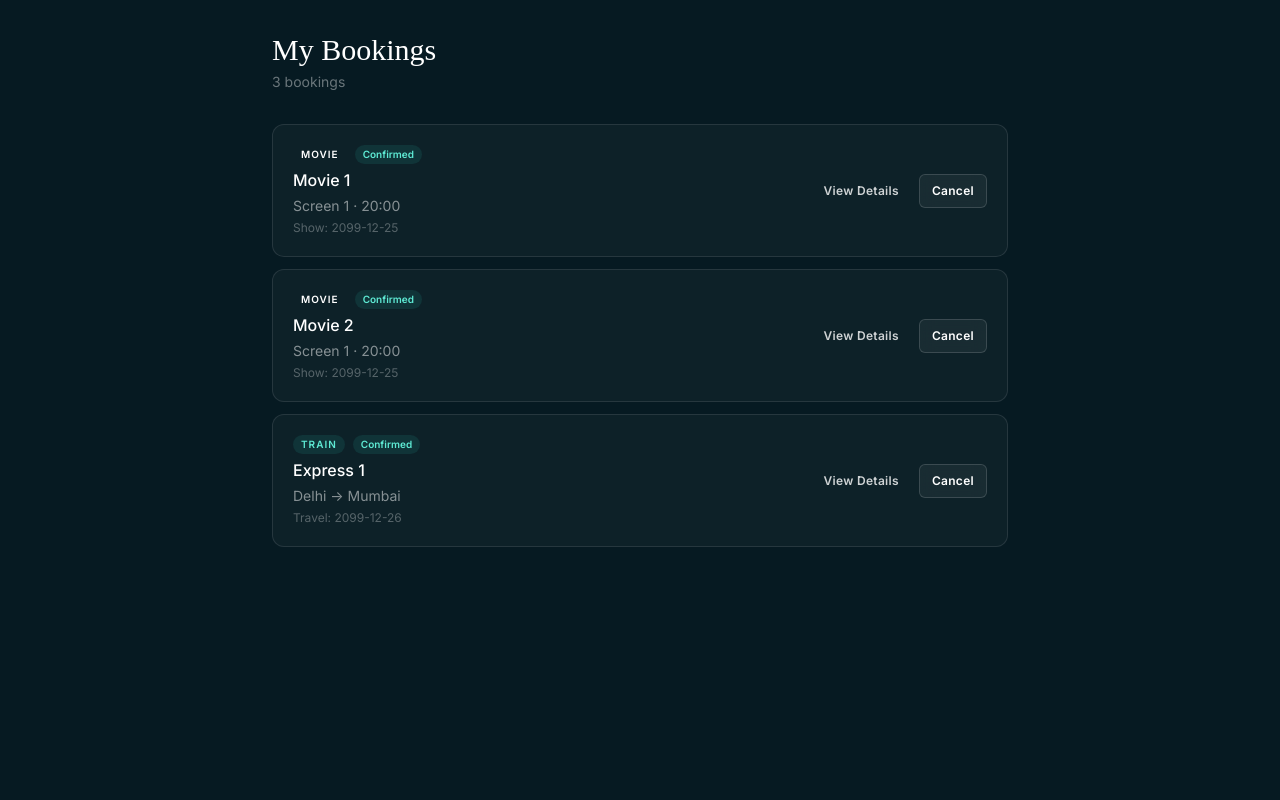
it: MyBookingsPage › cancel_button_opens_confirm_modal
Click the button "Cancel" in the row of "Movie 1" at [953, 190], box x1=919 y1=174 x2=987 y2=208
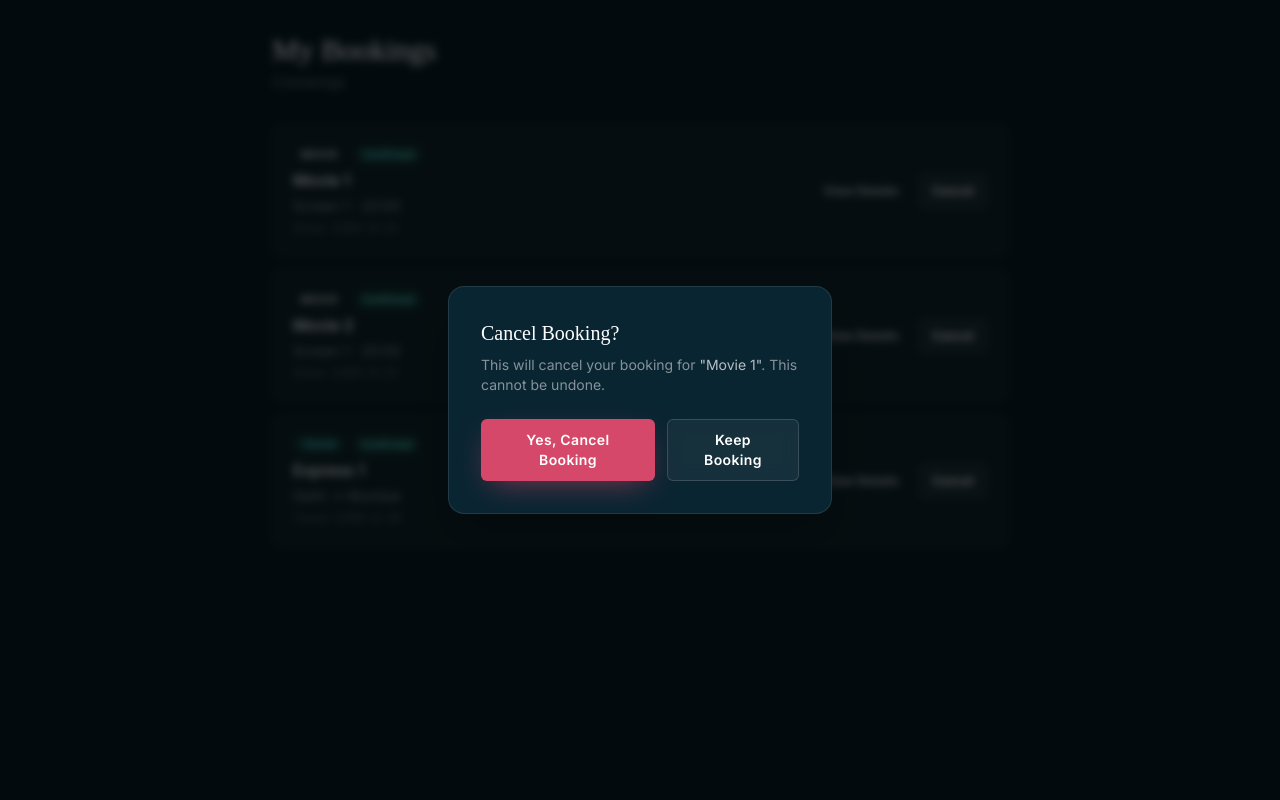
Expected: the heading "Cancel Booking?" is shown, x1=481 y1=322 x2=619 y2=344
